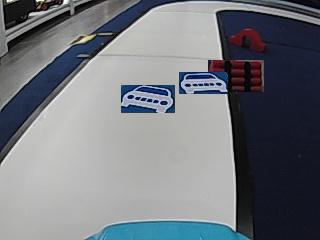bridge: (230, 27, 265, 51)
